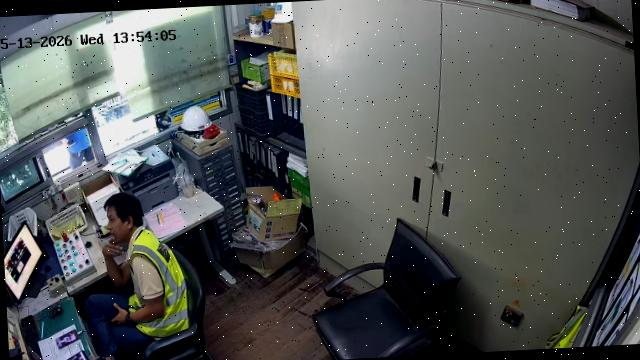Head: (104, 193, 143, 242)
People: (86, 194, 189, 359)
Phone: (57, 331, 78, 347), (78, 353, 87, 359)
